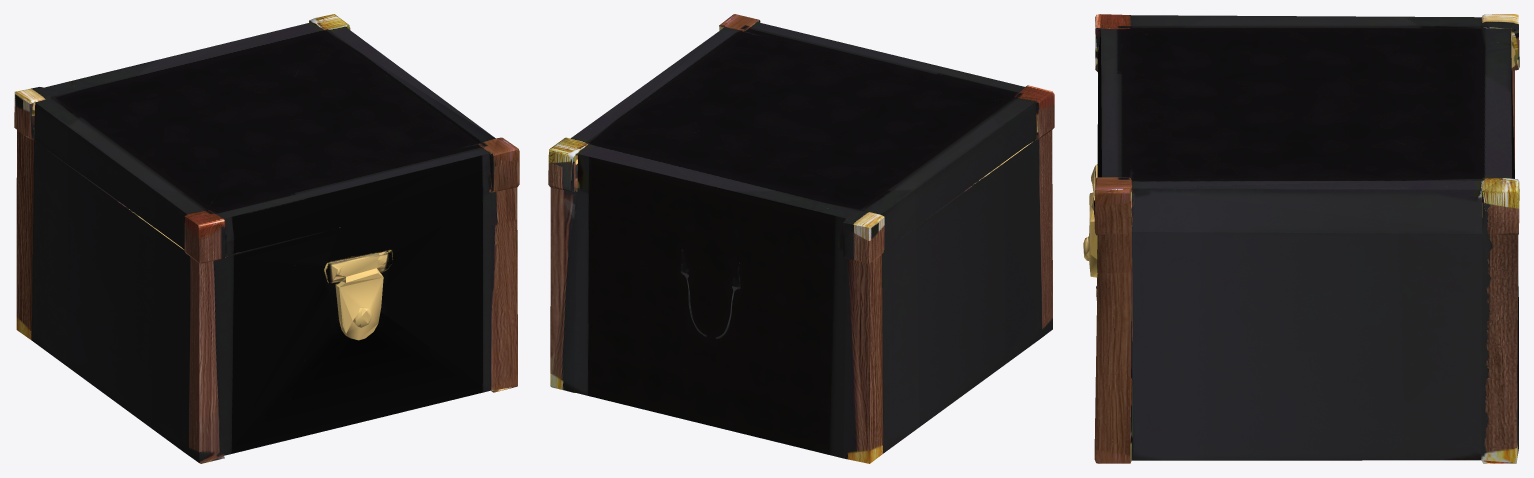
File: IT_Clutter_SmallStorageBox.fbx
3 views of the same model, side by side, from view 1: azimuth 30°, elevation 25°; view 2: azimuth 150°, elevation 25°; view 3: azimuth 270°, elevation 25° (orthographic). The views are drawn at different scales.
Visible parts, largest first — view 1: Mesh_0; view 2: Mesh_0; view 3: Mesh_0.
Part boxes in pixels (x1,y1,x2,y2): Mesh_0: (14, 14, 519, 463); Mesh_0: (548, 14, 1054, 463); Mesh_0: (1083, 14, 1519, 463).
Bounding box in the file's own units: 184 × 131 × 190.
Materials: 1 (1 with a texture image).
